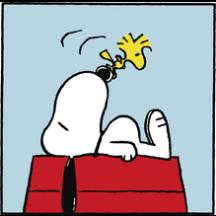snoopy: (40, 64, 172, 214)
